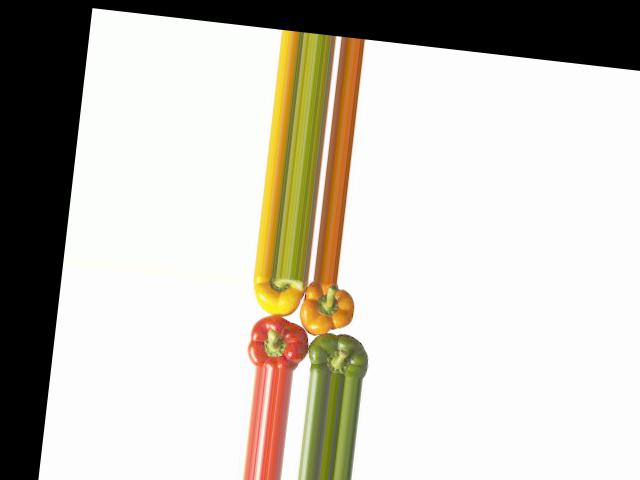bell_pepper: (247, 273, 310, 321)
